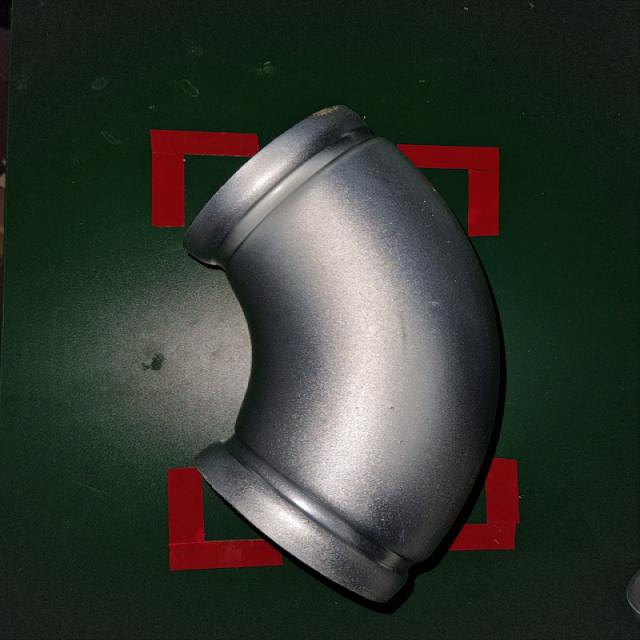Normal: (170, 97, 534, 614)
